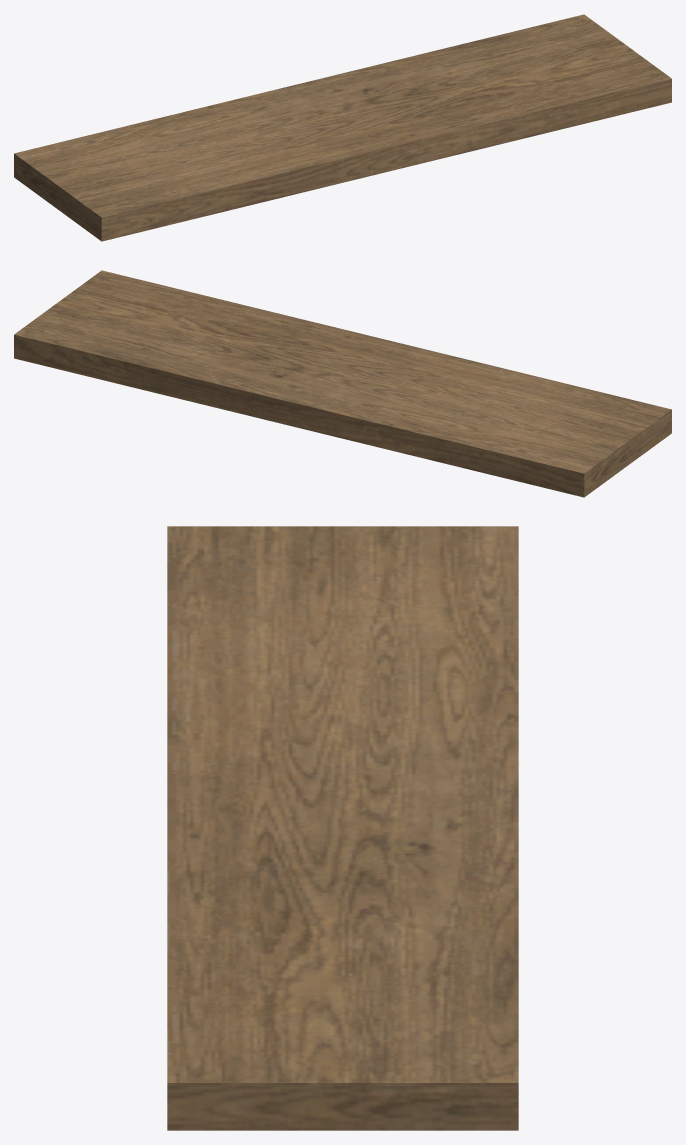
Rendered from SM_Rack_07.glb.
The picture shows the model from 3 angles, top to bottom: view 1: azimuth 30°, elevation 25°; view 2: azimuth 150°, elevation 25°; view 3: azimuth 270°, elevation 25°; orthographic projection. The views are drawn at different scales.
Visible parts, largest first — view 1: SM_Rack_07; view 2: SM_Rack_07; view 3: SM_Rack_07.
Part boxes in pixels (box(x1,y1,x2,y2)): SM_Rack_07: box(14, 14, 671, 241); SM_Rack_07: box(14, 270, 671, 497); SM_Rack_07: box(167, 526, 518, 1130).
Bounding box in the file's own units: 1.5 × 0.06 × 0.4.
1 material, 1 textured.
